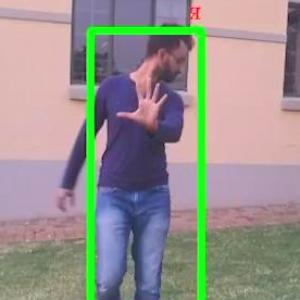follow_hand: (115, 73, 175, 134)
